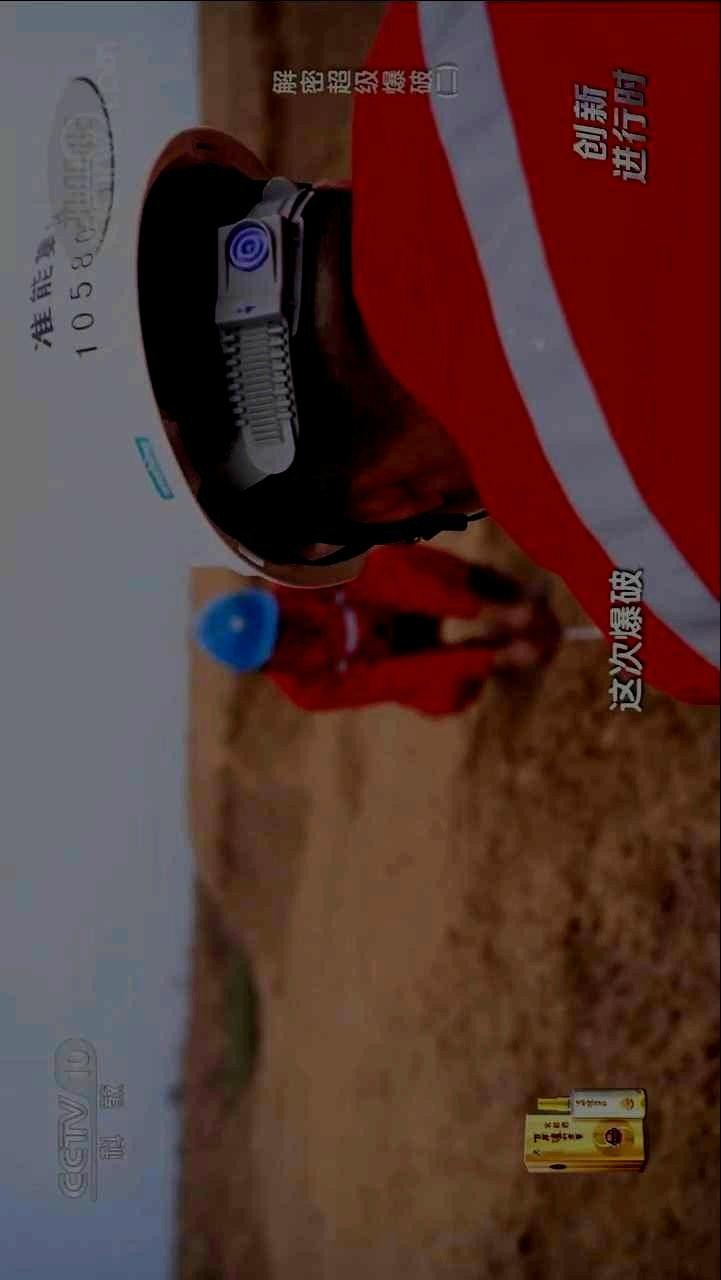helmet: (11, 125, 488, 590), (189, 584, 316, 677)
